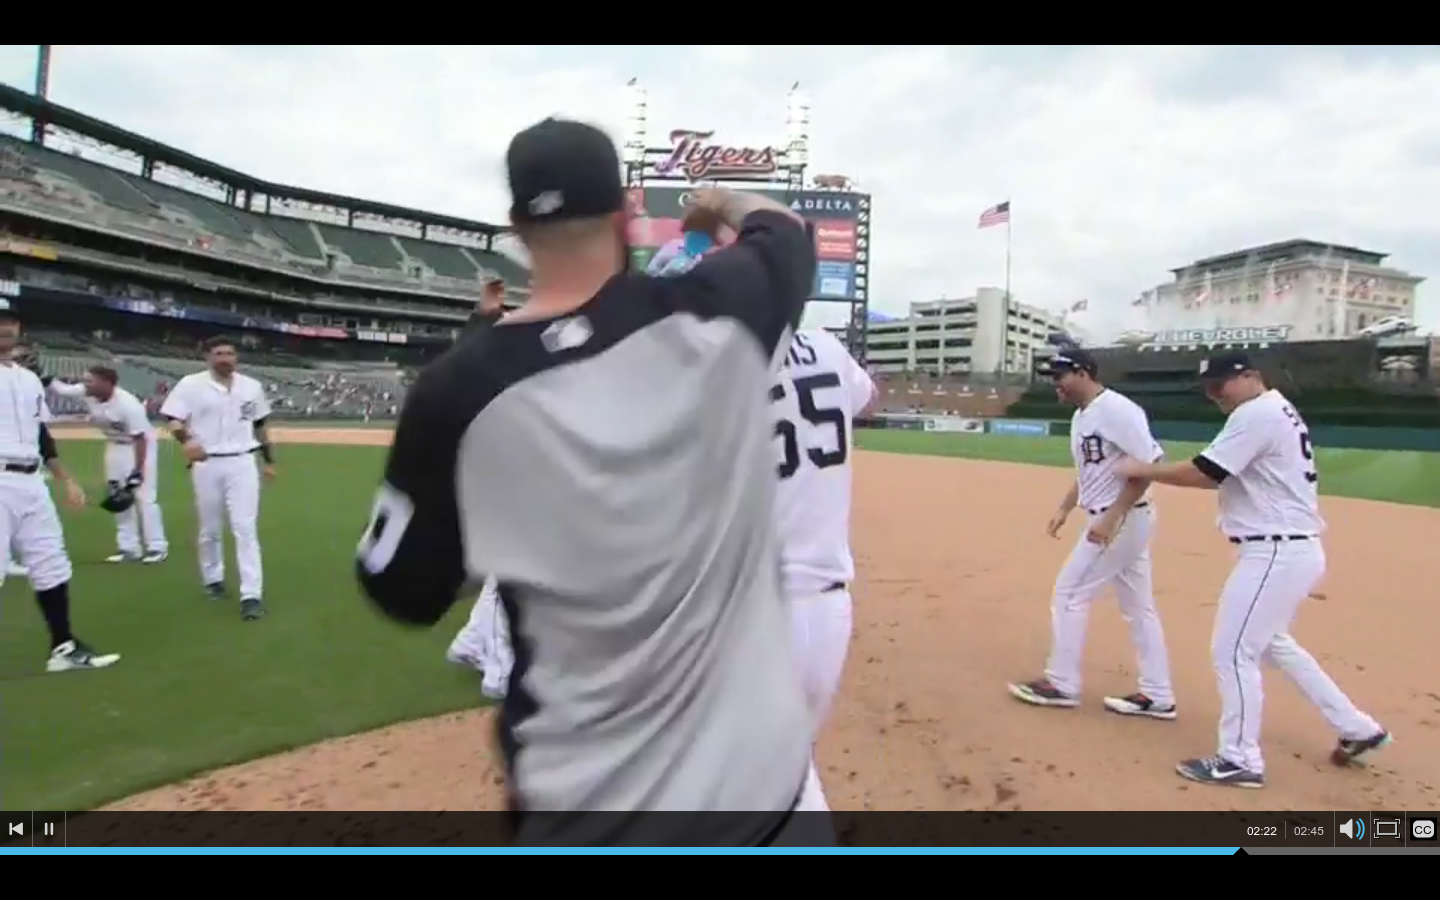baseball player: (1144, 336, 1395, 789), (1007, 351, 1190, 756), (1, 294, 125, 686), (164, 325, 296, 645), (44, 360, 178, 574)
